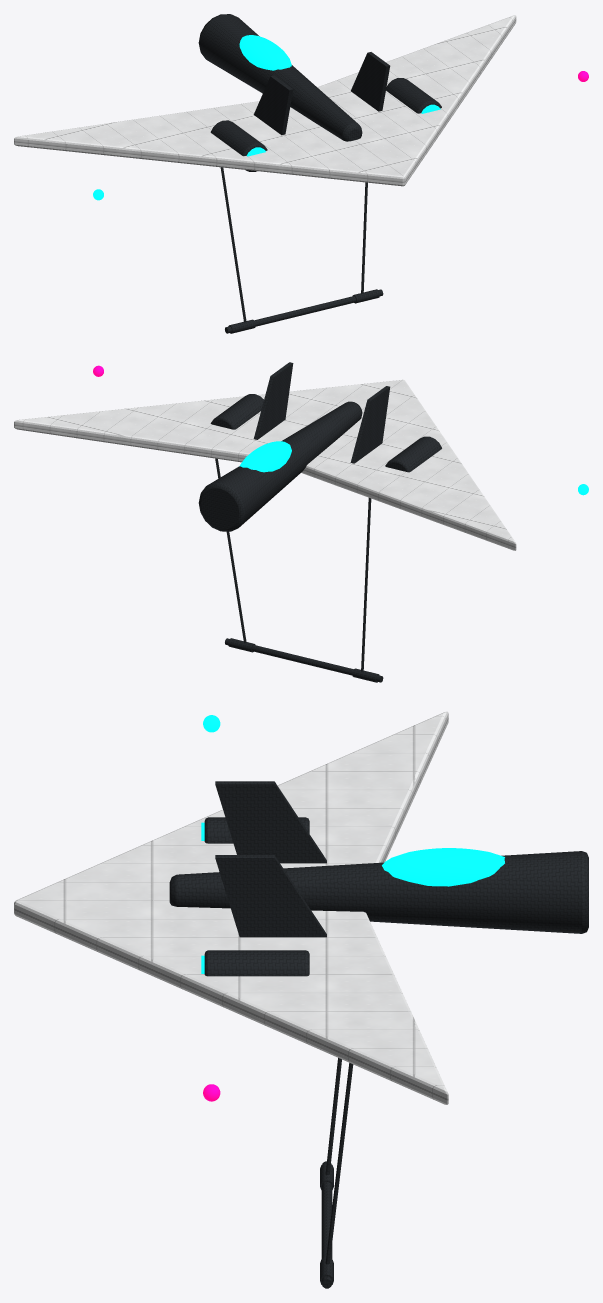
File: glider_delta_jet.glb
3 renders of one model, top to bottom at view 1: azimuth 30°, elevation 25°; view 2: azimuth 150°, elevation 25°; view 3: azimuth 270°, elevation 25°, orthographic. The views are drawn at different scales.
Parts seen in each view (by area): view 1: glider_delta_jet; view 2: glider_delta_jet; view 3: glider_delta_jet.
Part boxes in pixels (x1=…): glider_delta_jet: x1=14, y1=14, x2=588, y2=333; glider_delta_jet: x1=14, y1=362, x2=588, y2=682; glider_delta_jet: x1=14, y1=711, x2=588, y2=1288.
Bounding box in the file's own units: 2.59 × 1.3 × 1.65.
Materials: 4 (2 with a texture image).
